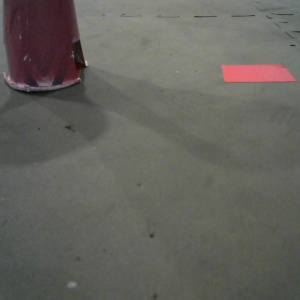middle: (3, 1, 90, 96)
